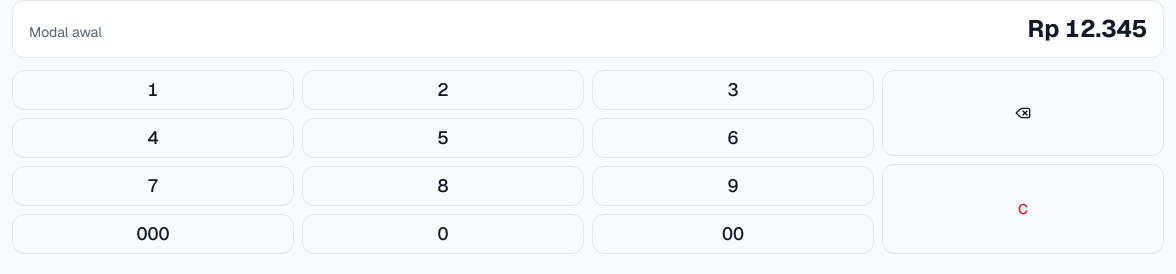
it: MoneyKeypad › deletes the last digit and clears
Click the button named "Hapus digit" at {"x": 1023, "y": 113}, box x1=882 y1=70 x2=1164 y2=156
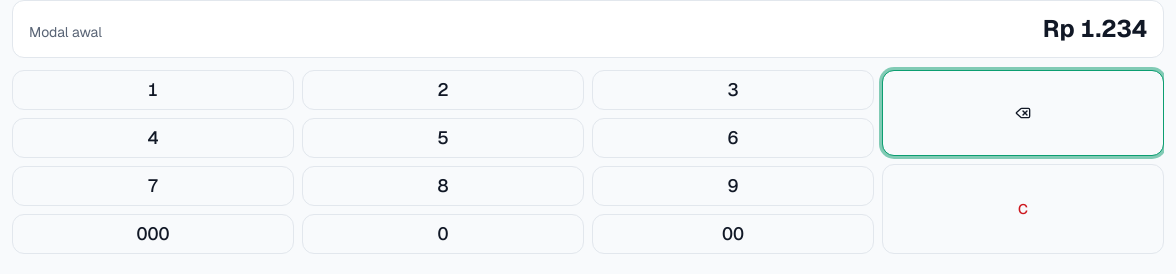
Expected: the message named "Modal awal" reads "Rp 1.234", x1=1043 y1=13 x2=1147 y2=44
Click the button "C" at {"x": 1023, "y": 209}, box x1=882 y1=164 x2=1164 y2=254
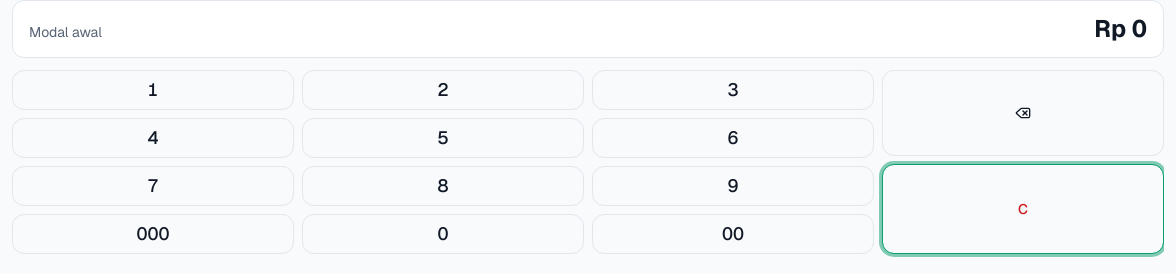
Expected: the message named "Modal awal" reads "Rp 0", x1=1094 y1=13 x2=1147 y2=44
